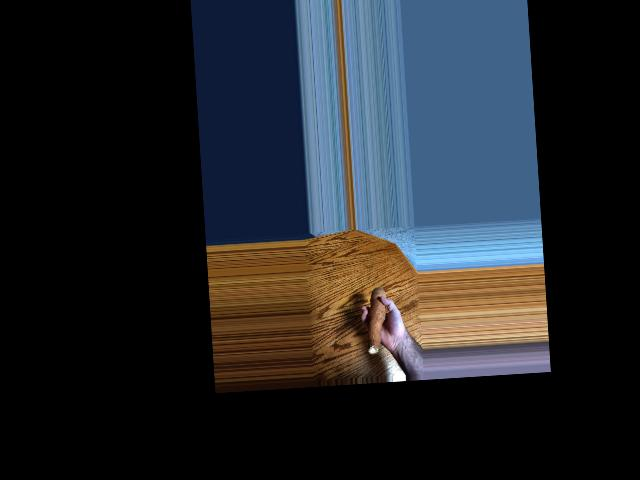sweet_potato: (366, 288, 389, 352)
